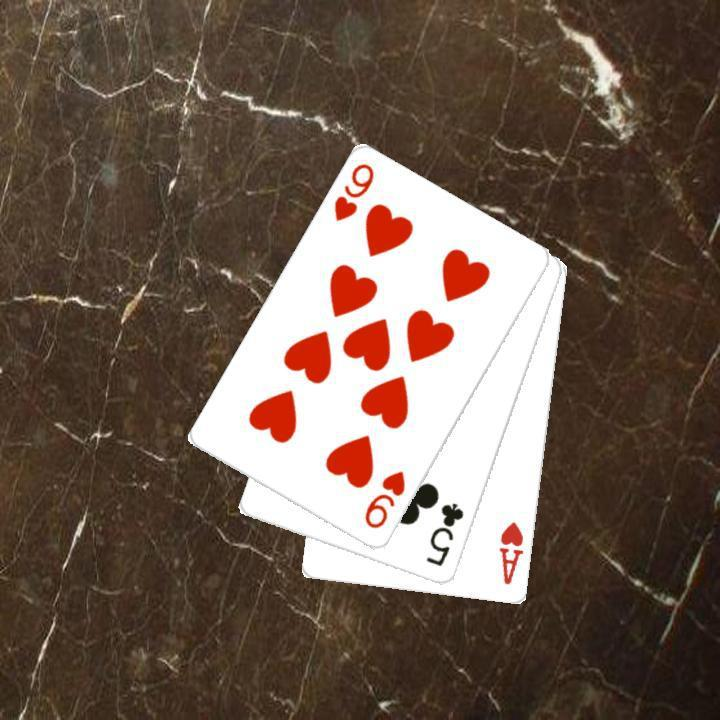5: (422, 499, 466, 569)
9: (360, 467, 408, 532), (329, 159, 377, 224)
A: (494, 518, 526, 587)
